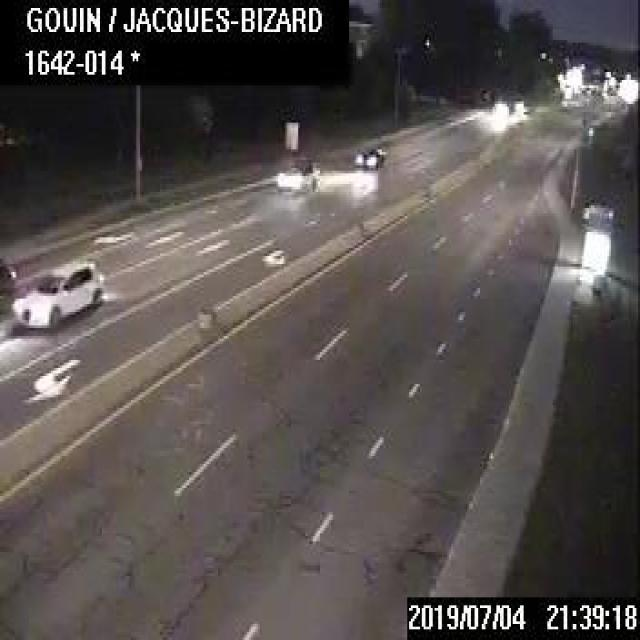vehicle: (11, 260, 102, 326), (273, 159, 319, 192), (0, 253, 13, 312), (354, 147, 386, 166)
